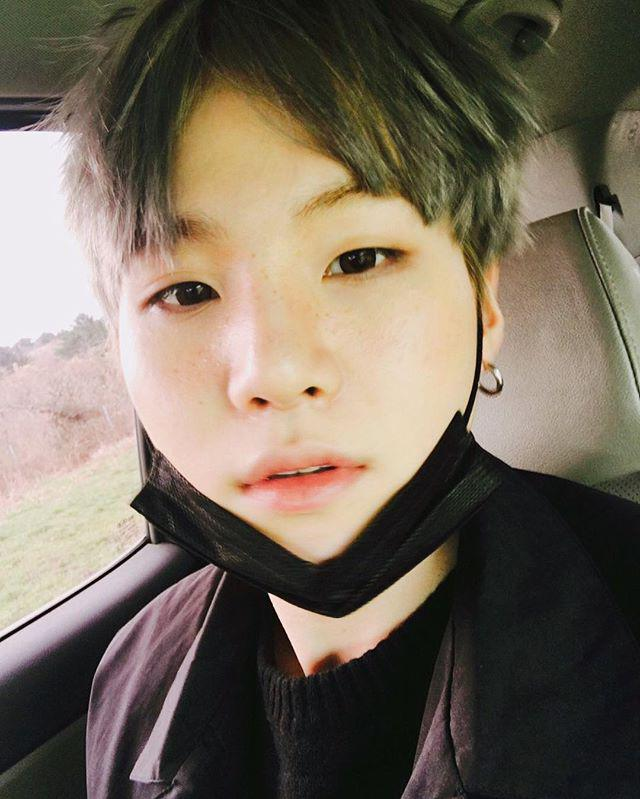mask_weared_incorrect: (138, 195, 461, 586)
